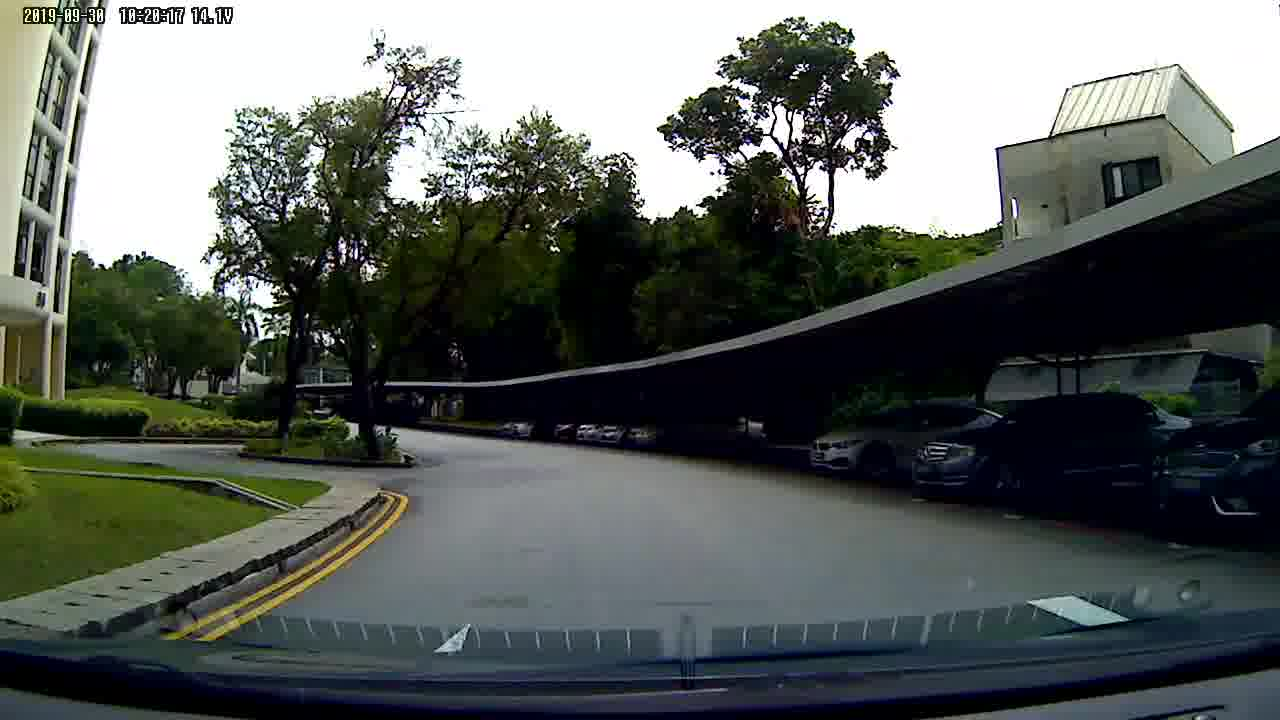car: (912, 387, 1146, 496), (1152, 388, 1280, 541), (791, 399, 916, 482)
